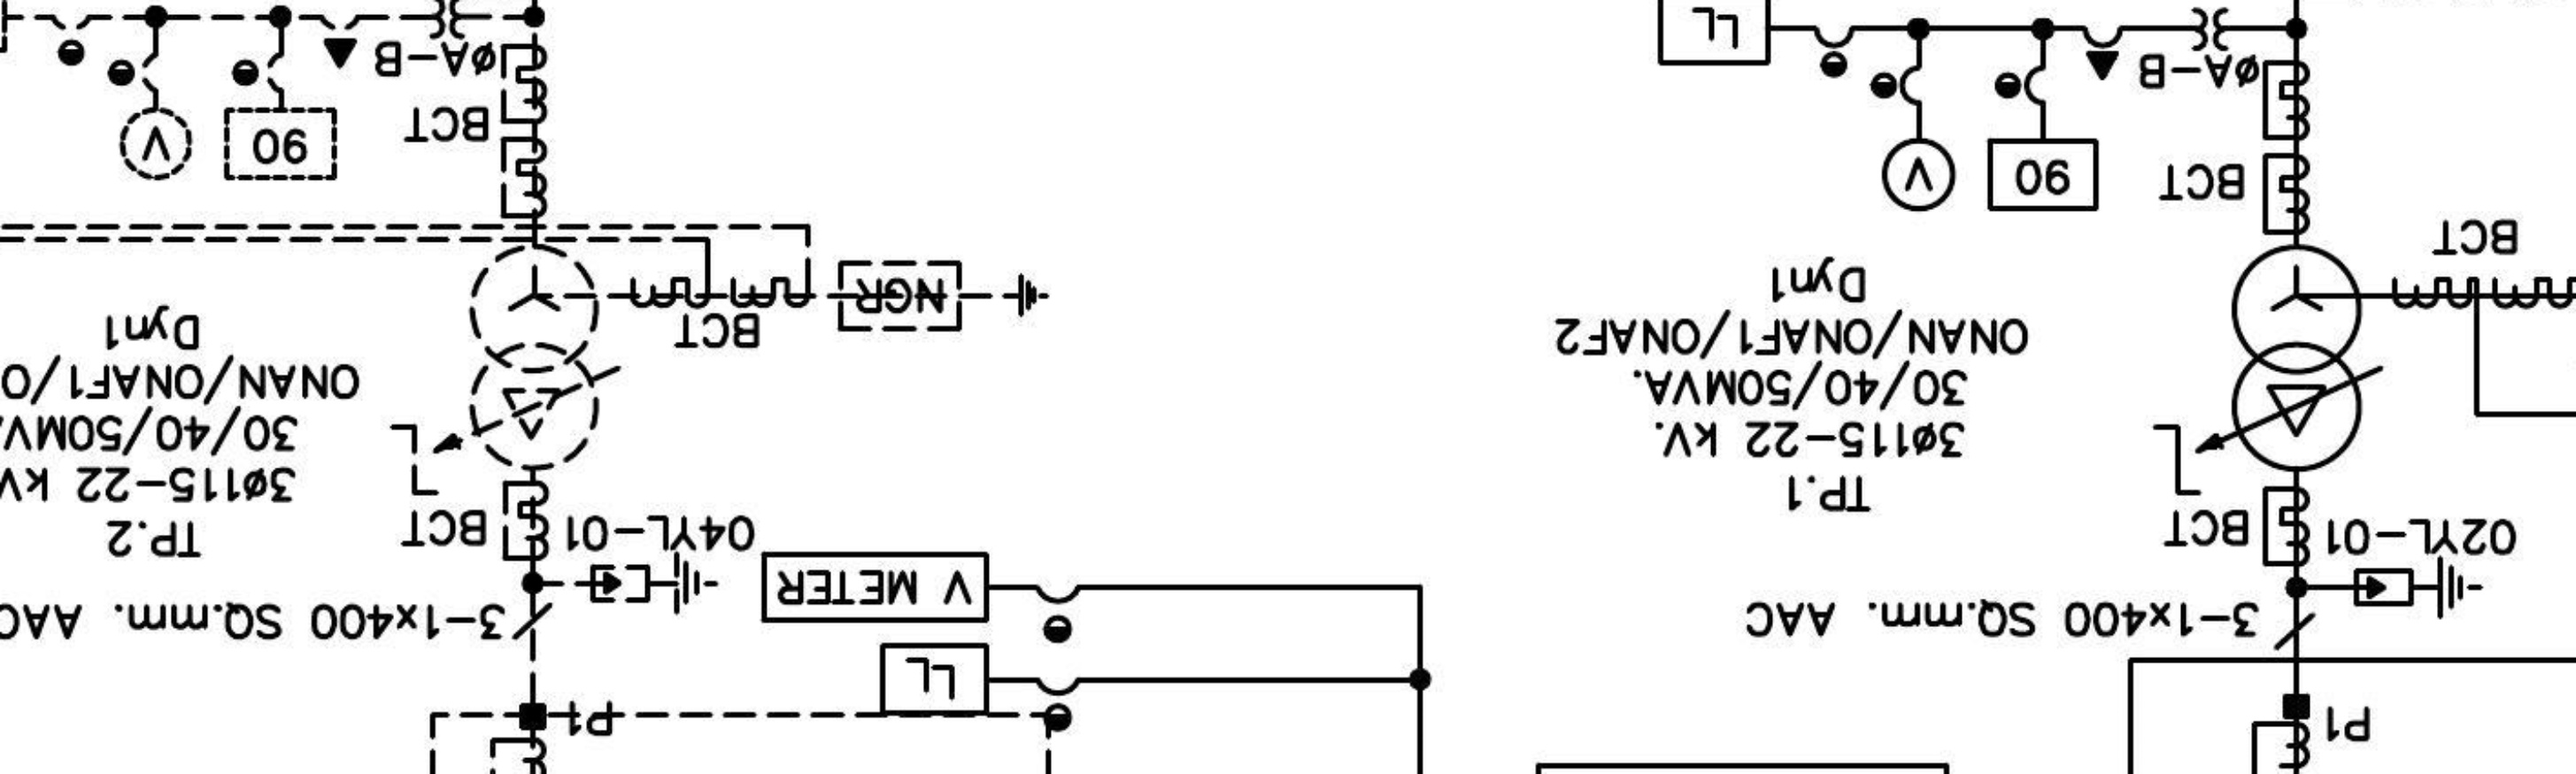11522_tx_dyn1: (2229, 243, 2364, 473)
115_la: (2353, 554, 2486, 621)
LL: (879, 641, 991, 716)
v_m: (1879, 136, 1958, 214)
v_m_digital: (761, 551, 991, 624)
